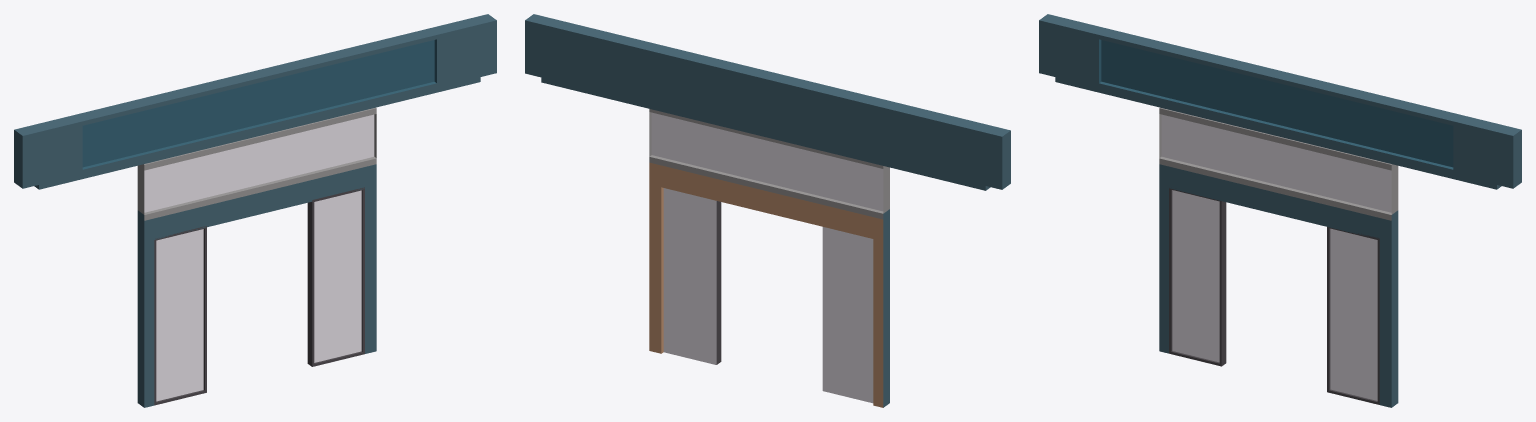
The model's file is Ka_devanture_magasin.fbx.
3 views of the same model, side by side, from view 1: azimuth 30°, elevation 25°; view 2: azimuth 150°, elevation 25°; view 3: azimuth 330°, elevation 25° (orthographic).
Visible parts, largest first — view 1: Box012; view 2: Box012; view 3: Box012.
Part boxes in pixels (box(x1,y1,x2,y2)): Box012: box(14, 14, 496, 407); Box012: box(525, 14, 1010, 407); Box012: box(1039, 14, 1521, 407).
Size of the model in its own units: 321 by 195 by 11.06.
